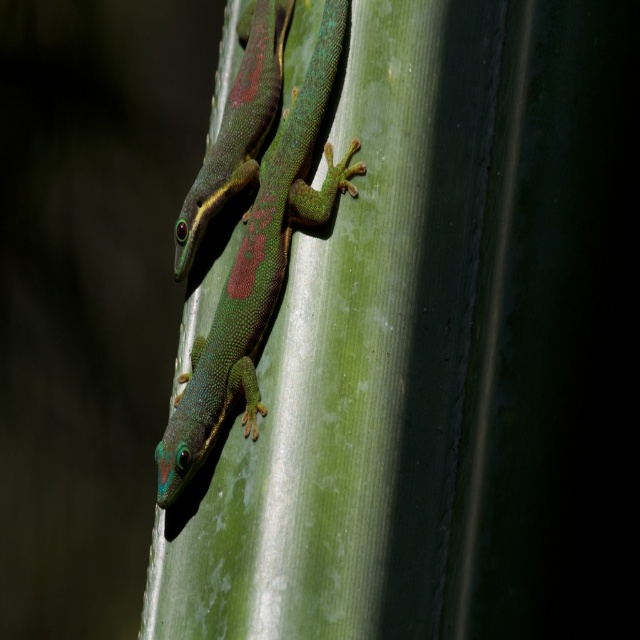Lizard: (161, 6, 376, 543), (174, 0, 295, 277)
